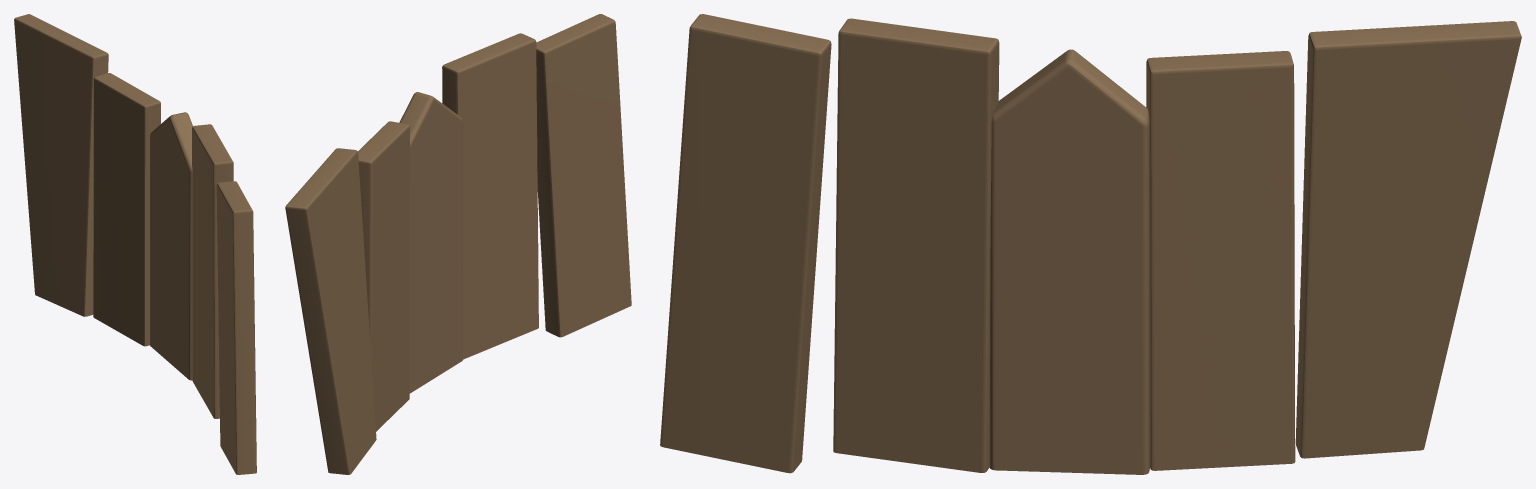
The model's file is WoodFenceFBX.fbx.
3 renders of one model, left to right at view 1: azimuth 30°, elevation 25°; view 2: azimuth 150°, elevation 25°; view 3: azimuth 270°, elevation 25°, orthographic. The views are drawn at different scales.
Visible parts, largest first — view 1: WoodFence04, WoodFence03, pCube1, WoodFence01, WoodFence02; view 2: WoodFence01, WoodFence02, WoodFence04, pCube1, WoodFence03; view 3: WoodFence04, WoodFence02, pCube1, WoodFence01, WoodFence03.
Part boxes in pixels (<box>): WoodFence04: <box>14,14,108,316</box>; WoodFence03: <box>93,73,160,346</box>; pCube1: <box>150,112,192,380</box>; WoodFence01: <box>216,181,256,474</box>; WoodFence02: <box>192,124,233,418</box>; WoodFence01: <box>536,14,631,337</box>; WoodFence02: <box>442,33,538,359</box>; WoodFence04: <box>285,148,376,474</box>; pCube1: <box>399,92,462,393</box>; WoodFence03: <box>357,121,409,431</box>; WoodFence04: <box>1295,21,1521,458</box>; WoodFence02: <box>833,18,999,472</box>; pCube1: <box>989,49,1149,474</box>; WoodFence01: <box>660,14,831,473</box>; WoodFence03: <box>1146,51,1295,470</box>.
Size of the model in its own units: 0.323 by 1.12 by 1.95.
